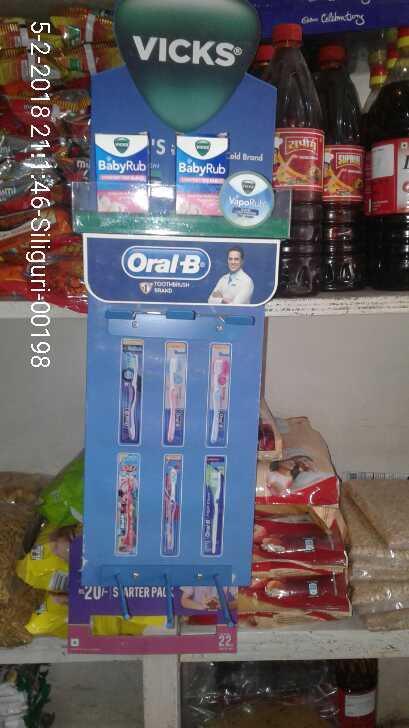vicks: (93, 131, 159, 220), (176, 139, 227, 209)
